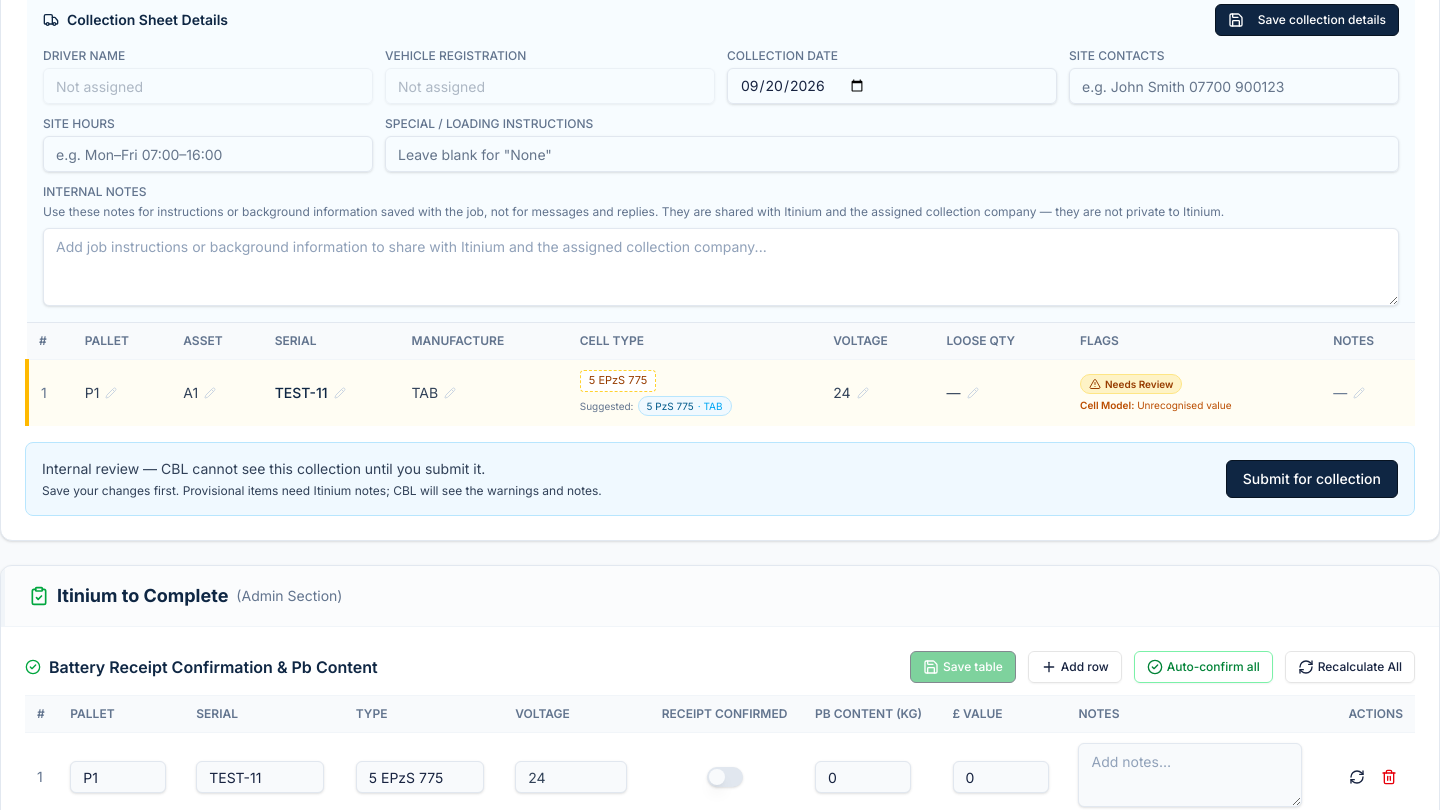
Test: job-page model badge saving › sends one model-only update and refreshes both job tables with the saved response
(page scrolled)
Click the button "5 PzS 775 · TAB".
click(684, 406)  # box [638,396,732,416]
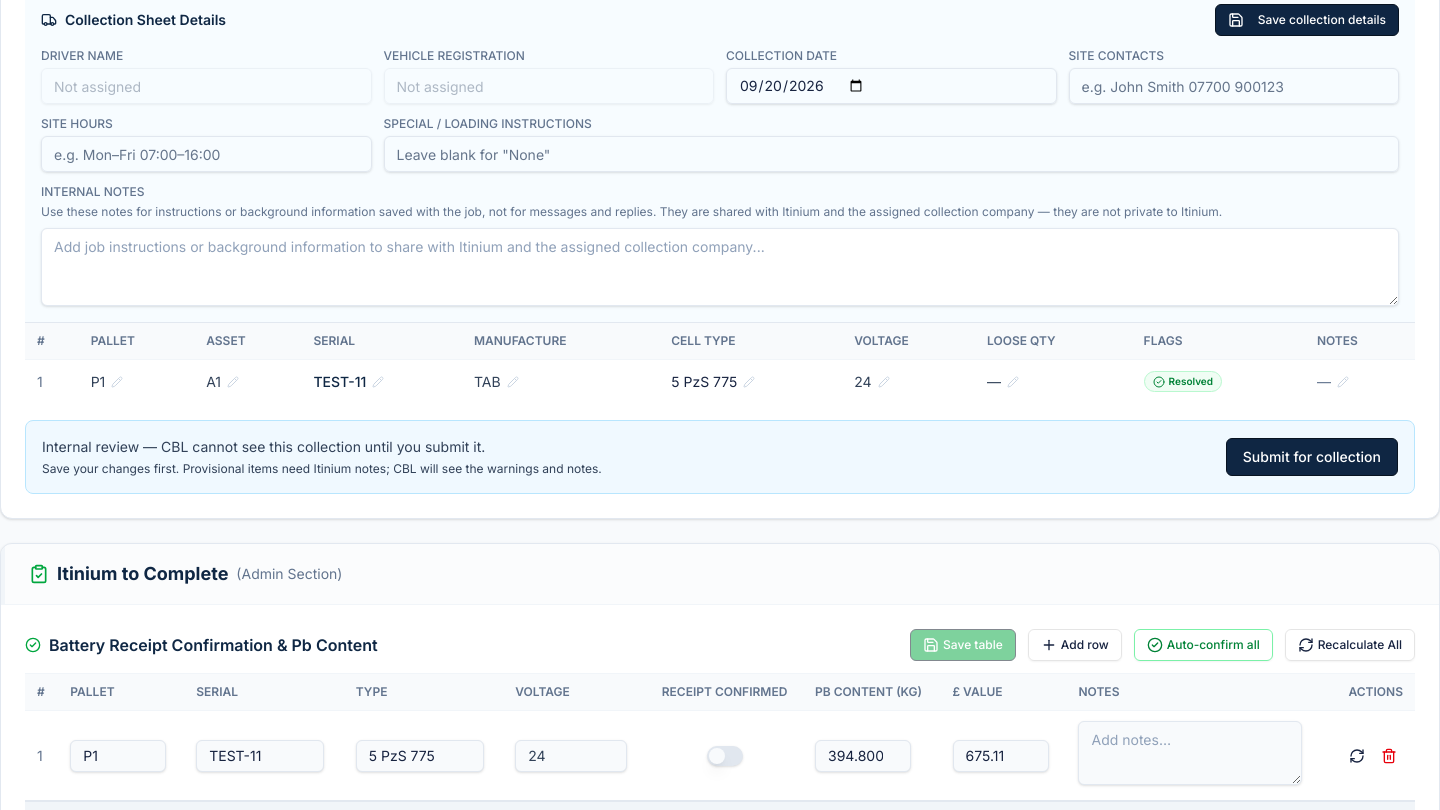
Expected: the button titled "Edit cell model" reads "5 PzS 775", [667,370,759,394]
Expected: the field showing "5 PzS 775" is shown, [356,740,484,772]
Expected: the number field showing "394.800" is shown, [815,740,911,772]
